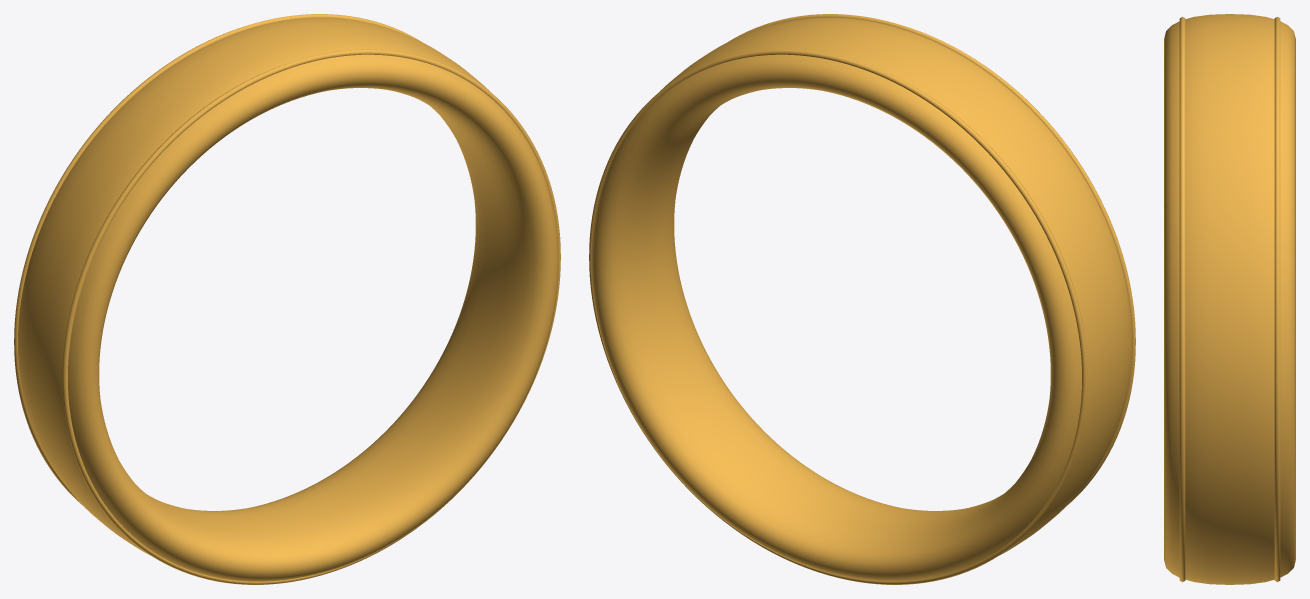
File: wedding-ring.glb
3 renders of one model, left to right at view 1: azimuth 30°, elevation 25°; view 2: azimuth 150°, elevation 25°; view 3: azimuth 270°, elevation 25°, orthographic.
Parts seen in each view (by area): view 1: metal; view 2: metal; view 3: metal.
Boxes of the visible parts, x1,y1,x2,y2 form: metal: (14,14,560,584); metal: (589,14,1135,584); metal: (1164,14,1295,584).
Bounding box in the file's own units: 2.08 × 2.08 × 0.48.
